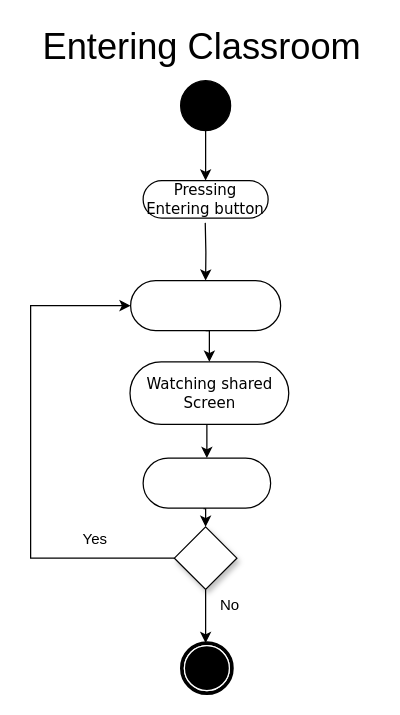
Image size: 400x715. Some labels were removed from this diagram. The shapes that lost their labels are listed below. From the top down, each one's centre as x and y in pixels, then its label:
At (x=205, y=305): "Selecting Class List".
At (x=206, y=482): "Pressing Close Button".
